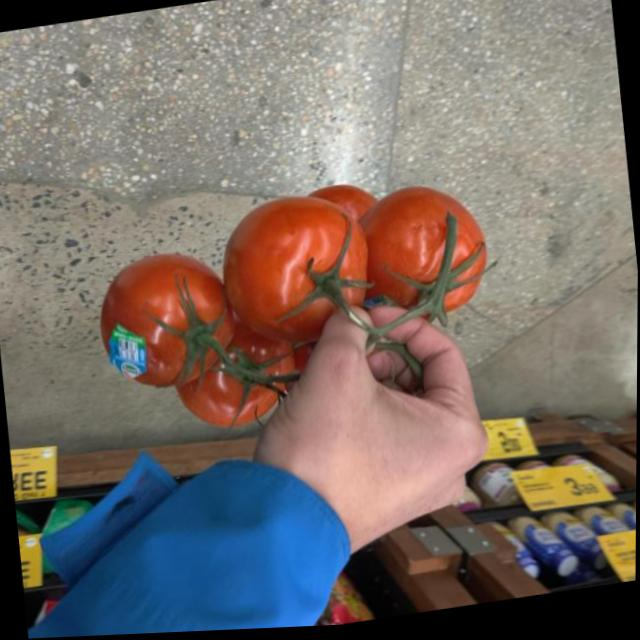Tomatoes: (86, 169, 501, 444)
